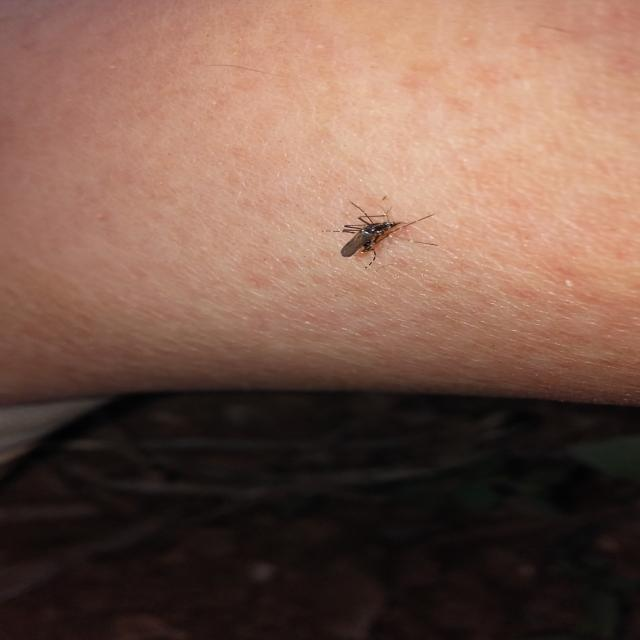albopictus: (315, 188, 444, 271)
